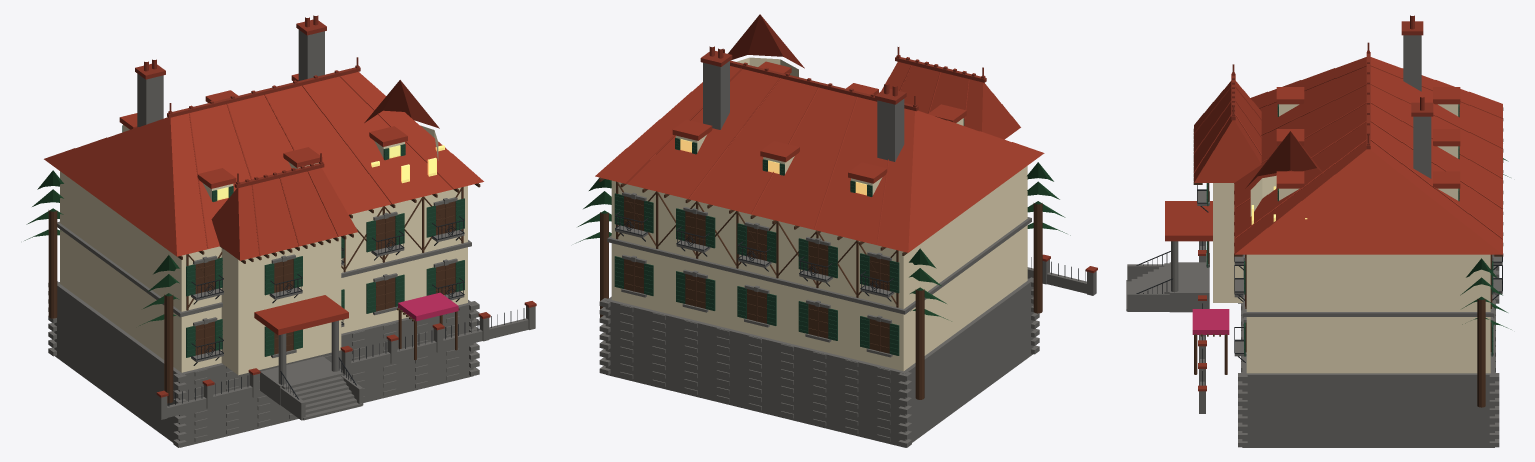
File: fv_cb_06_so_dia_du_french_director_villa.glb
3 renders of one model, left to right at view 1: azimuth 30°, elevation 25°; view 2: azimuth 150°, elevation 25°; view 3: azimuth 270°, elevation 25°, orthographic. The views are drawn at different scales.
Parts seen in each view (by area): view 1: marseille_corrugated_roof_tiles, granite_foundation_and_stairs, stucco_facade_and_dormers, colombage_timber_and_eaves, pine_green_louvered_shutters, ridge_cresting_and_chimneys, wrought_iron_balconies_3d, pine_trees_and_garden_hedges, bougainvillea_pergola_clusters, warm_night_windows_ffb86c; view 2: marseille_corrugated_roof_tiles, granite_foundation_and_stairs, stucco_facade_and_dormers, colombage_timber_and_eaves, pine_green_louvered_shutters, ridge_cresting_and_chimneys, pine_trees_and_garden_hedges, wrought_iron_balconies_3d; view 3: marseille_corrugated_roof_tiles, stucco_facade_and_dormers, granite_foundation_and_stairs, colombage_timber_and_eaves, ridge_cresting_and_chimneys, bougainvillea_pergola_clusters, wrought_iron_balconies_3d, pine_green_louvered_shutters, pine_trees_and_garden_hedges.
Boxes of the visible parts, x1,y1,x2,y2 form: marseille_corrugated_roof_tiles: [44, 72, 483, 335]; granite_foundation_and_stairs: [48, 30, 535, 447]; stucco_facade_and_dormers: [60, 125, 467, 375]; colombage_timber_and_eaves: [48, 183, 480, 403]; pine_green_louvered_shutters: [122, 125, 464, 357]; ridge_cresting_and_chimneys: [135, 15, 536, 397]; wrought_iron_balconies_3d: [168, 216, 524, 406]; pine_trees_and_garden_hedges: [24, 170, 179, 325]; bougainvillea_pergola_clusters: [398, 292, 458, 321]; warm_night_windows_ffb86c: [217, 145, 444, 200]; marseille_corrugated_roof_tiles: [595, 14, 1044, 252]; granite_foundation_and_stairs: [599, 61, 1096, 447]; stucco_facade_and_dormers: [611, 57, 1027, 371]; colombage_timber_and_eaves: [599, 178, 1042, 399]; pine_green_louvered_shutters: [614, 119, 964, 355]; ridge_cresting_and_chimneys: [700, 46, 1097, 273]; pine_trees_and_garden_hedges: [575, 162, 1070, 321]; wrought_iron_balconies_3d: [615, 212, 1085, 301]; marseille_corrugated_roof_tiles: [1165, 57, 1503, 254]; stucco_facade_and_dormers: [1213, 104, 1490, 373]; granite_foundation_and_stairs: [1126, 35, 1502, 447]; colombage_timber_and_eaves: [1193, 107, 1503, 407]; ridge_cresting_and_chimneys: [1198, 15, 1433, 391]; bougainvillea_pergola_clusters: [1192, 309, 1229, 334]; wrought_iron_balconies_3d: [1136, 185, 1502, 385]; pine_green_louvered_shutters: [1206, 104, 1493, 356]; pine_trees_and_garden_hedges: [1460, 158, 1511, 329].
Size of the model in its own units: 25.77 by 20.43 by 23.25.
